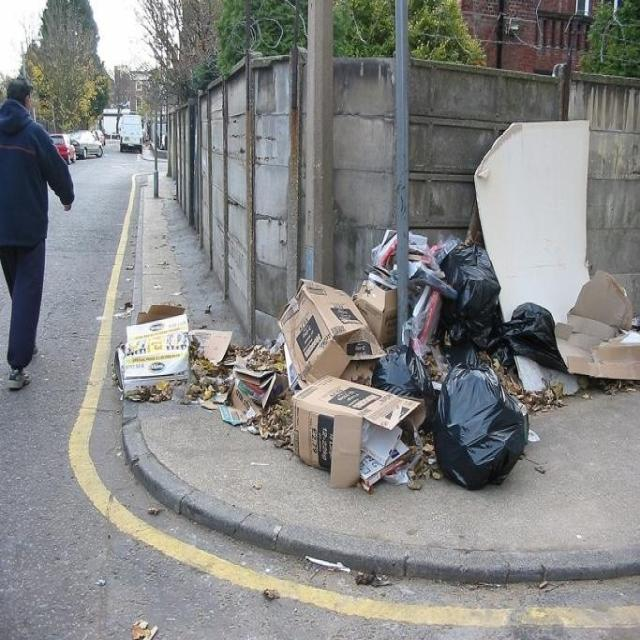pothole: (136, 232, 560, 459)
